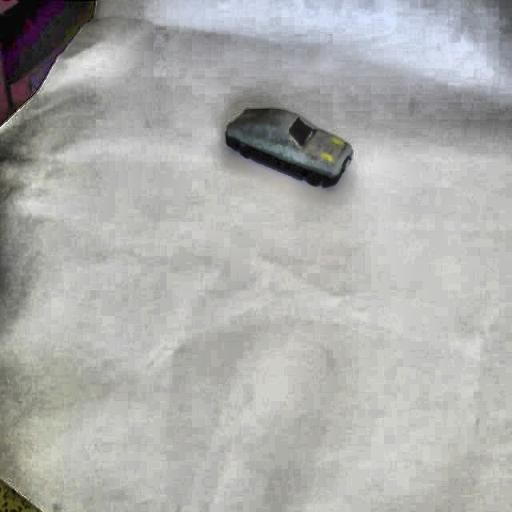normal_car: (218, 100, 352, 192)
